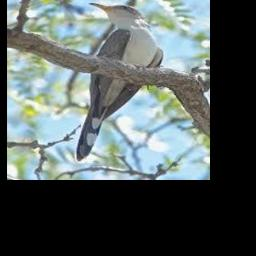Cuckoo: (75, 2, 163, 161)
